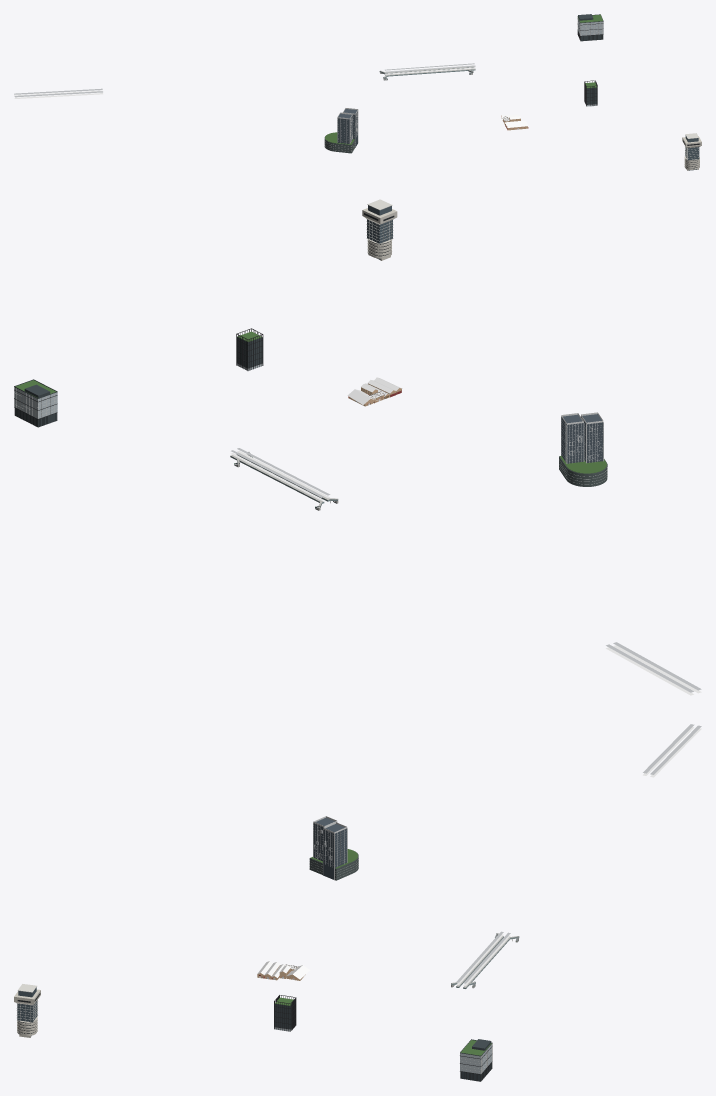
File: landmarks.glb
The picture shows the model from 3 angles, top to bottom: view 1: azimuth 30°, elevation 25°; view 2: azimuth 150°, elevation 25°; view 3: azimuth 270°, elevation 25°; orthographic projection. The views are drawn at different scales.
Visible parts, largest first — view 1: 서울숲 코오롱디지털타워1차, 무신사 캠퍼스 N1, 하우스 노웨어 서울(젠틀몬스터), 무신사 캠퍼스 E1, 성수역 승강장, 성수역 승강장.002, 성수역 승강장.001; view 2: 서울숲 코오롱디지털타워1차, 무신사 캠퍼스 N1, 하우스 노웨어 서울(젠틀몬스터), 무신사 캠퍼스 E1; view 3: 서울숲 코오롱디지털타워1차, 무신사 캠퍼스 N1, 하우스 노웨어 서울(젠틀몬스터), 무신사 캠퍼스 E1.
Boxes of the visible parts, x1=… form: 서울숲 코오롱디지털타워1차: x1=324, y1=108, x2=358, y2=153; 무신사 캠퍼스 N1: x1=577, y1=14, x2=603, y2=41; 하우스 노웨어 서울(젠틀몬스터): x1=682, y1=133, x2=701, y2=170; 무신사 캠퍼스 E1: x1=584, y1=80, x2=597, y2=106; 성수역 승강장: x1=14, y1=91, x2=102, y2=98; 성수역 승강장.002: x1=385, y1=65, x2=475, y2=74; 성수역 승강장.001: x1=14, y1=88, x2=102, y2=96; 서울숲 코오롱디지털타워1차: x1=559, y1=412, x2=607, y2=486; 무신사 캠퍼스 N1: x1=14, y1=379, x2=57, y2=427; 하우스 노웨어 서울(젠틀몬스터): x1=362, y1=199, x2=397, y2=260; 무신사 캠퍼스 E1: x1=236, y1=328, x2=263, y2=370; 서울숲 코오롱디지털타워1차: x1=309, y1=816, x2=358, y2=880; 무신사 캠퍼스 N1: x1=460, y1=1039, x2=492, y2=1081; 하우스 노웨어 서울(젠틀몬스터): x1=14, y1=984, x2=40, y2=1037; 무신사 캠퍼스 E1: x1=274, y1=995, x2=296, y2=1031.
Size of the model in its own units: 1292 by 82.4 by 1073.
61 materials, 17 textured.
